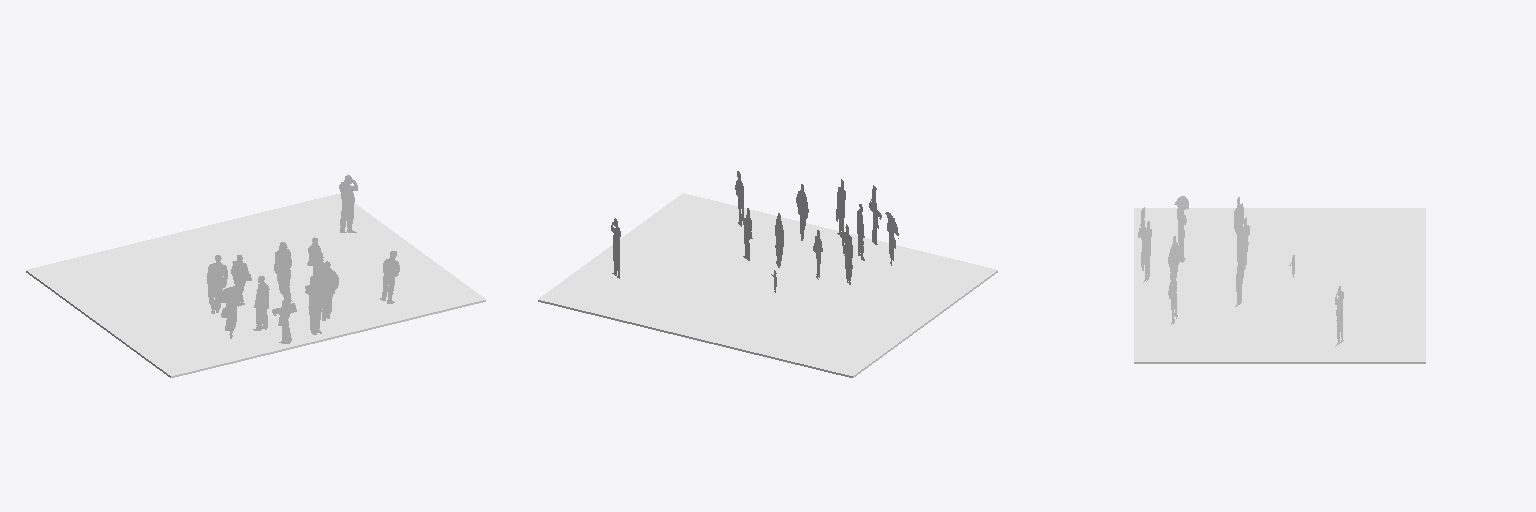
3 views of the same model, side by side, from view 1: azimuth 30°, elevation 25°; view 2: azimuth 150°, elevation 25°; view 3: azimuth 270°, elevation 25° (orthographic).
Parts seen in each view (by area): view 1: Layer0_001_Layer0_001Mesh, Component#3_001_Component#3_001Mesh, Man With Mobile_001_Man With Mobile_001Mesh, Component#7_001_Component#7_001Mesh, Component#5_001_Component#5_001Mesh, Component#2_001_Component#2_001Mesh, Sweet Lady - Walking_001_Sweet Lady - Walking_001Mesh, Component#6_001_Component#6_001Mesh, Component#4_001_Component#4_001Mesh, Component#1_001_Component#1_001Mesh; view 2: Layer0_001_Layer0_001Mesh; view 3: Layer0_001_Layer0_001Mesh.
Part boxes in pixels (x1,y1,x2,y2): Layer0_001_Layer0_001Mesh: (26,193,485,377); Component#3_001_Component#3_001Mesh: (207,255,227,313); Man With Mobile_001_Man With Mobile_001Mesh: (305,276,325,334); Component#7_001_Component#7_001Mesh: (339,175,357,232); Component#5_001_Component#5_001Mesh: (216,286,243,338); Component#2_001_Component#2_001Mesh: (316,261,338,318); Sweet Lady - Walking_001_Sweet Lady - Walking_001Mesh: (274,242,291,294); Component#6_001_Component#6_001Mesh: (272,286,296,343); Component#4_001_Component#4_001Mesh: (253,276,269,330); Component#1_001_Component#1_001Mesh: (380,251,399,303); Layer0_001_Layer0_001Mesh: (538,193,997,377); Layer0_001_Layer0_001Mesh: (1134,208,1425,363).
Size of the model in its own units: 9.9 by 1.85 by 7.92.